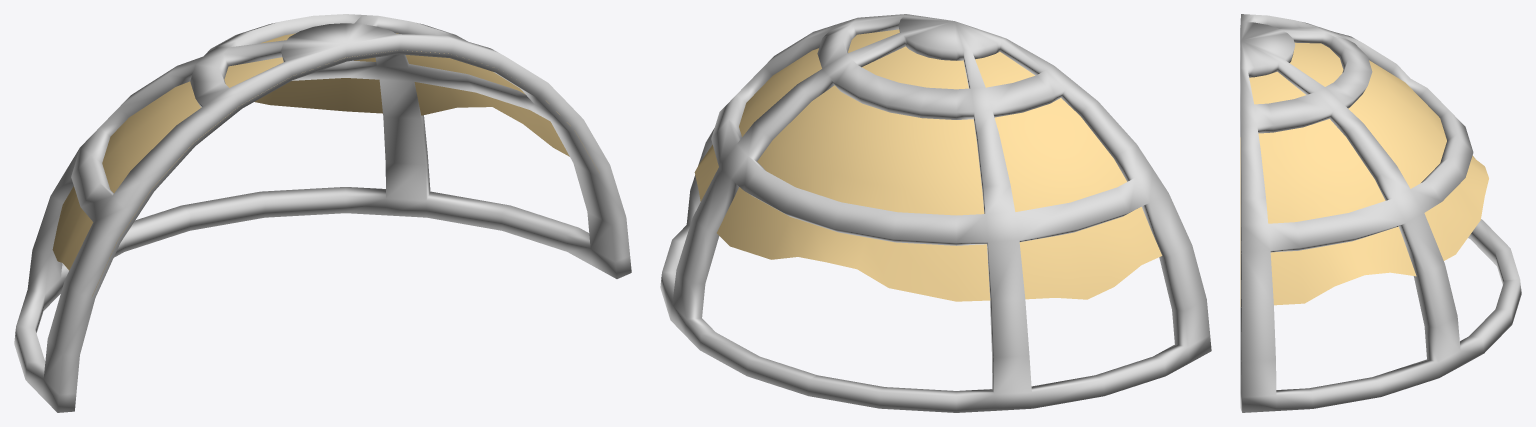
The model's file is outdoor_stage 1.fbx.
The picture shows the model from 3 angles, left to right: view 1: azimuth 30°, elevation 25°; view 2: azimuth 150°, elevation 25°; view 3: azimuth 270°, elevation 25°; orthographic projection. The views are drawn at different scales.
Parts seen in each view (by area): view 1: Sphere.001, Sphere; view 2: Sphere.001, Sphere; view 3: Sphere.001, Sphere.
Part boxes in pixels (left/top/right/bottom): Sphere.001: left=14, top=14, right=631, bottom=412; Sphere: left=52, top=33, right=599, bottom=296; Sphere.001: left=660, top=14, right=1211, bottom=412; Sphere: left=694, top=29, right=1162, bottom=301; Sphere.001: left=1240, top=14, right=1521, bottom=412; Sphere: left=1240, top=42, right=1488, bottom=306.
Bounding box in the file's own units: 212 × 106 × 106.
